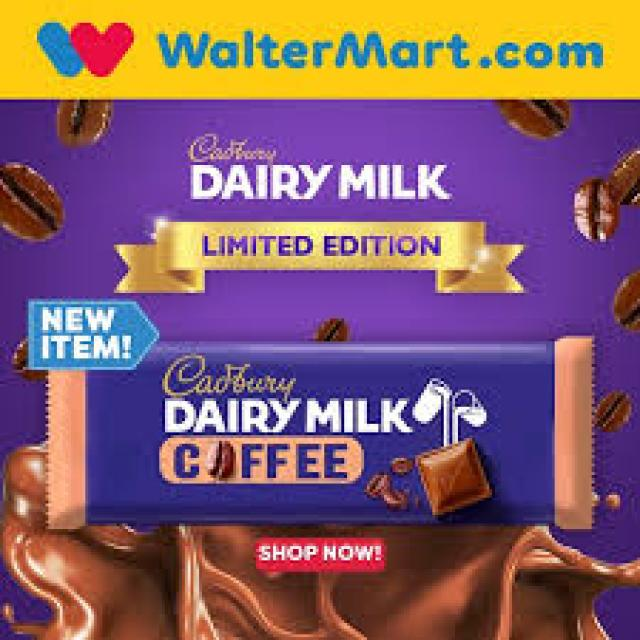cadbury: (84, 364, 557, 510)
